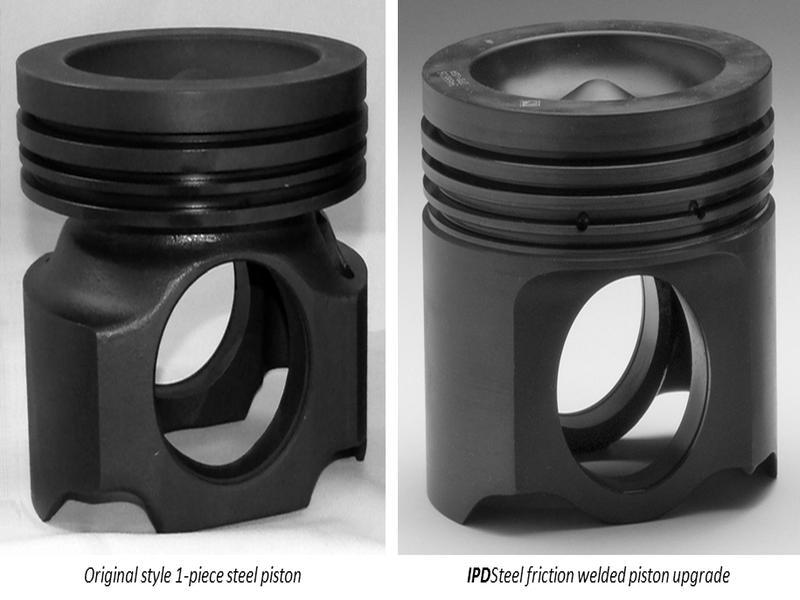piston: (413, 12, 800, 549), (9, 34, 377, 542)
